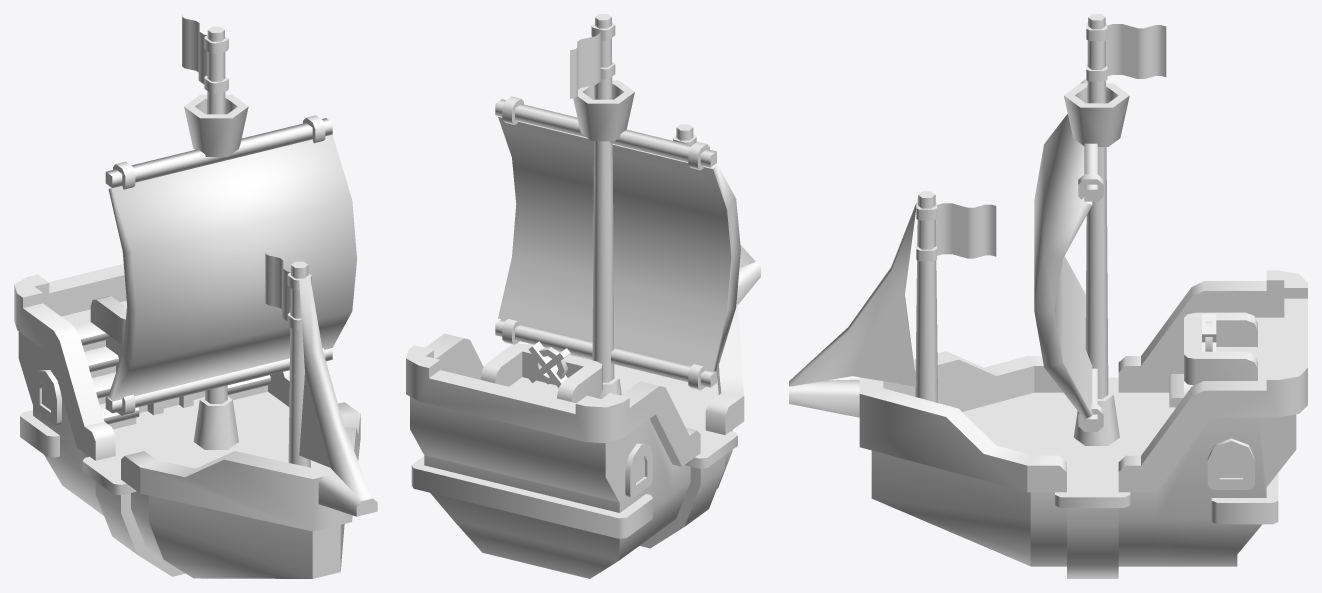
The model's file is ship-small.glb.
3 views of the same model, side by side, from view 1: azimuth 30°, elevation 25°; view 2: azimuth 150°, elevation 25°; view 3: azimuth 270°, elevation 25° (orthographic). The views are drawn at different scales.
Visible parts, largest first — view 1: ship-small, sail-a, flag-b, flag-a; view 2: ship-small, sail-a, flag-b; view 3: ship-small, sail-a, flag-a, flag-b.
Boxes of the visible parts, x1,y1,x2,y2 form: ship-small: (14,26,377,578); sail-a: (105,115,356,416); flag-b: (182,15,228,93); flag-a: (265,252,311,330); ship-small: (406,14,760,578); sail-a: (495,96,740,390); flag-b: (570,23,615,98); ship-small: (789,14,1307,578); sail-a: (1034,79,1103,431); flag-a: (916,202,996,261); flag-b: (1086,22,1166,81).
Size of the model in its own units: 4.8 by 9.96 by 8.8.
1 material, 1 textured.
